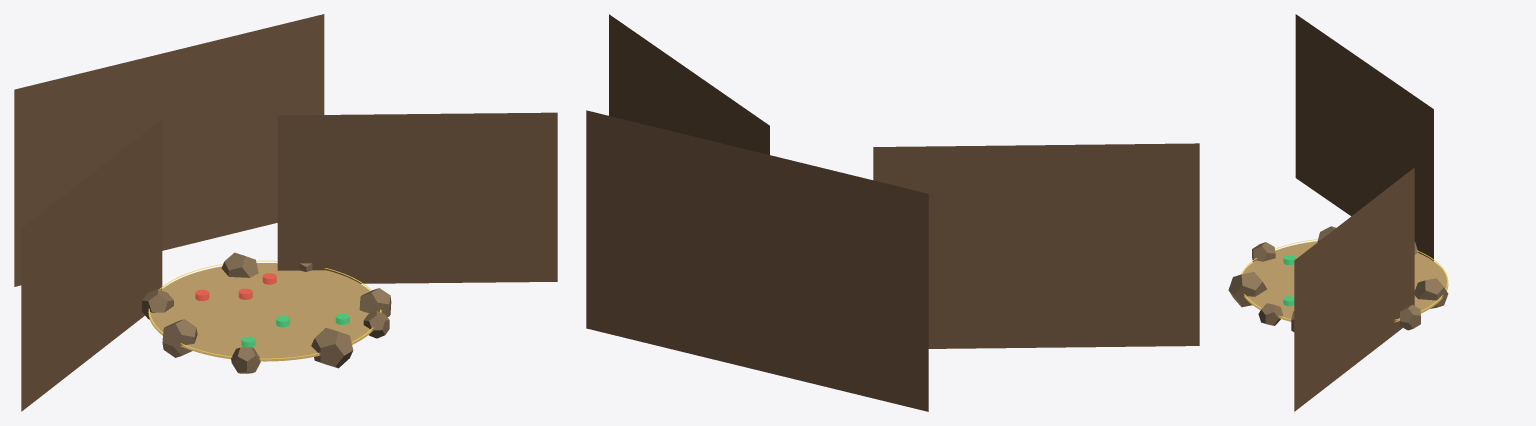
Rendered from arena_blockout.glb.
3 renders of one model, left to right at view 1: azimuth 30°, elevation 25°; view 2: azimuth 150°, elevation 25°; view 3: azimuth 270°, elevation 25°, orthographic. The views are drawn at different scales.
Parts seen in each view (by area): view 1: BackdropWall1, BackdropWall2, BackdropWall0, Ground, RimRock2, RimRock4, RimRock6, RimRock0, RimRock3, RimRock5, RimRock1, ArenaBoundary; view 2: BackdropWall2, BackdropWall0, BackdropWall1; view 3: BackdropWall0, BackdropWall1, Ground, RimRock2, RimRock6, RimRock7, RimRock1, RimRock3, ArenaBoundary.
Boxes of the visible parts, x1,y1,x2,y2 form: BackdropWall1: (277,112,557,283); BackdropWall2: (14,14,324,286); BackdropWall0: (21,119,162,411); Ground: (148,263,381,361); RimRock2: (311,328,353,368); RimRock4: (162,319,197,357); RimRock6: (221,252,258,277); RimRock0: (359,288,391,317); RimRock3: (231,347,260,373); RimRock5: (142,289,173,319); RimRock1: (363,311,389,338); ArenaBoundary: (148,260,381,359); BackdropWall2: (586,110,928,411); BackdropWall0: (873,143,1199,348); BackdropWall1: (609,14,769,154); BackdropWall0: (1295,14,1433,261); BackdropWall1: (1294,168,1414,411); Ground: (1242,241,1448,322); RimRock2: (1228,272,1266,307); RimRock6: (1414,278,1448,308); RimRock7: (1399,304,1420,330); RimRock1: (1258,303,1282,325); RimRock3: (1252,242,1275,261); ArenaBoundary: (1241,239,1448,320).
Size of the model in its own units: 7.95 by 2.91 by 4.21.
